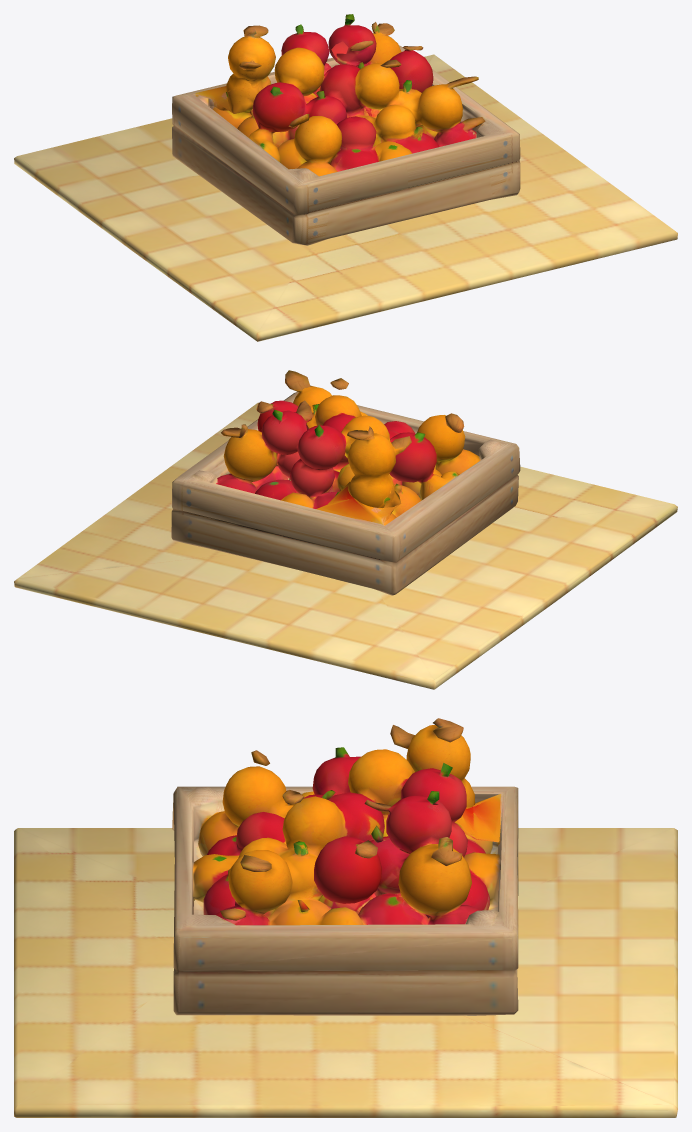
The model's file is Meshy_AI_Joyful_Fruit_Crate_0516190117_texture.fbx.
3 renders of one model, top to bottom at view 1: azimuth 30°, elevation 25°; view 2: azimuth 150°, elevation 25°; view 3: azimuth 270°, elevation 25°, orthographic. The views are drawn at different scales.
Visible parts, largest first — view 1: Mesh_0; view 2: Mesh_0; view 3: Mesh_0.
Part boxes in pixels (left/top/right/bottom): Mesh_0: left=14, top=14, right=677, bottom=341; Mesh_0: left=14, top=370, right=677, bottom=689; Mesh_0: left=14, top=718, right=677, bottom=1117.
Size of the model in its own units: 191 by 70.45 by 191.
Materials: 1 (1 with a texture image).
